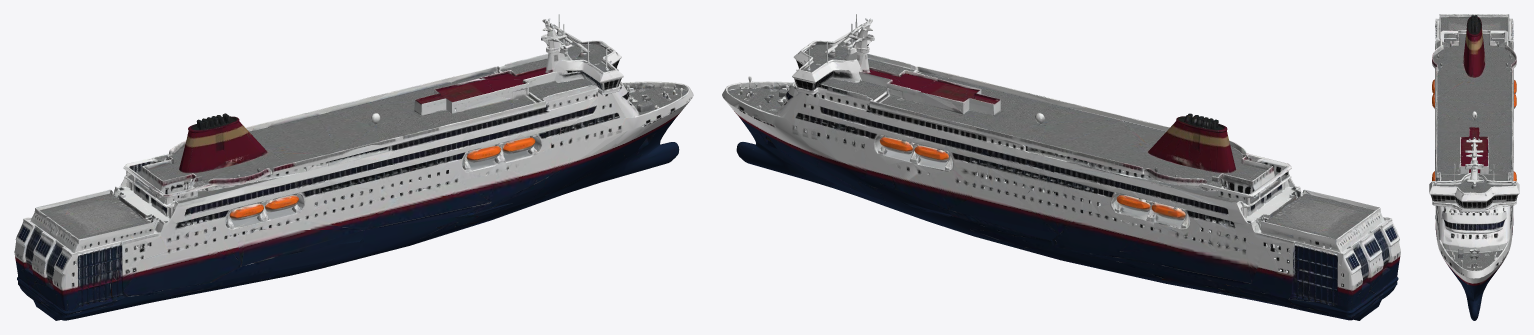
The model's file is 01_roro_passenger_ferry_186m.glb.
3 views of the same model, side by side, from view 1: azimuth 30°, elevation 25°; view 2: azimuth 150°, elevation 25°; view 3: azimuth 270°, elevation 25° (orthographic). The views are drawn at different scales.
Parts seen in each view (by area): view 1: Mesh_0; view 2: Mesh_0; view 3: Mesh_0.
Part boxes in pixels (x1,y1,x2,y2): Mesh_0: [14, 14, 693, 320]; Mesh_0: [722, 14, 1400, 320]; Mesh_0: [1429, 14, 1519, 320].
Size of the model in its own units: 186 by 47.05 by 28.
Materials: 1 (1 with a texture image).
